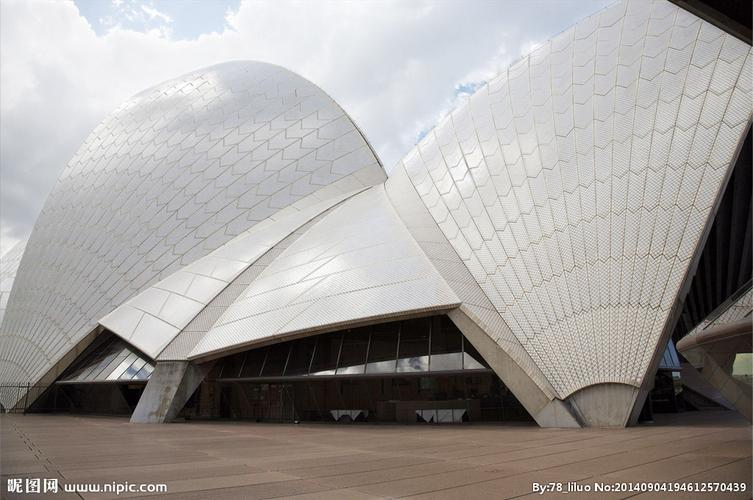buildings: (27, 77, 670, 425), (320, 46, 722, 418)
